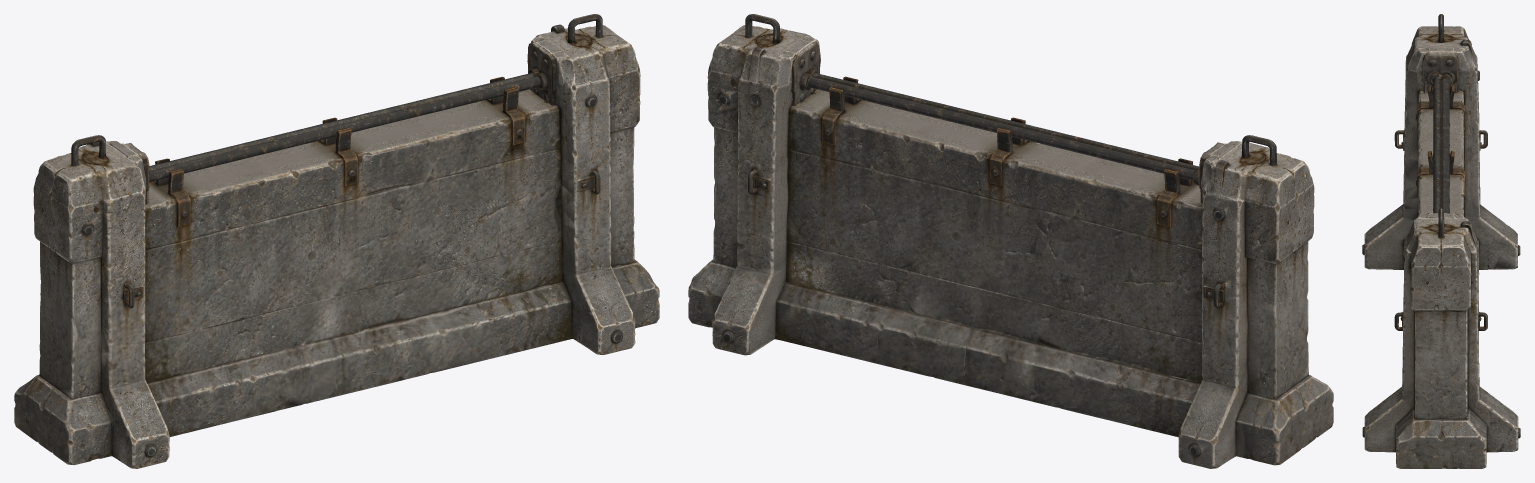
Rendered from iron_barricade.glb.
The picture shows the model from 3 angles, left to right: view 1: azimuth 30°, elevation 25°; view 2: azimuth 150°, elevation 25°; view 3: azimuth 270°, elevation 25°; orthographic projection. The views are drawn at different scales.
Visible parts, largest first — view 1: iron_barricade; view 2: iron_barricade; view 3: iron_barricade.
Boxes of the visible parts, box(x1,y1,x2,y2) form: iron_barricade: box(14, 14, 659, 468); iron_barricade: box(688, 14, 1333, 468); iron_barricade: box(1362, 14, 1520, 468).
Size of the model in its own units: 1.9 by 0.9133 by 0.55.
1 material, 1 textured.
